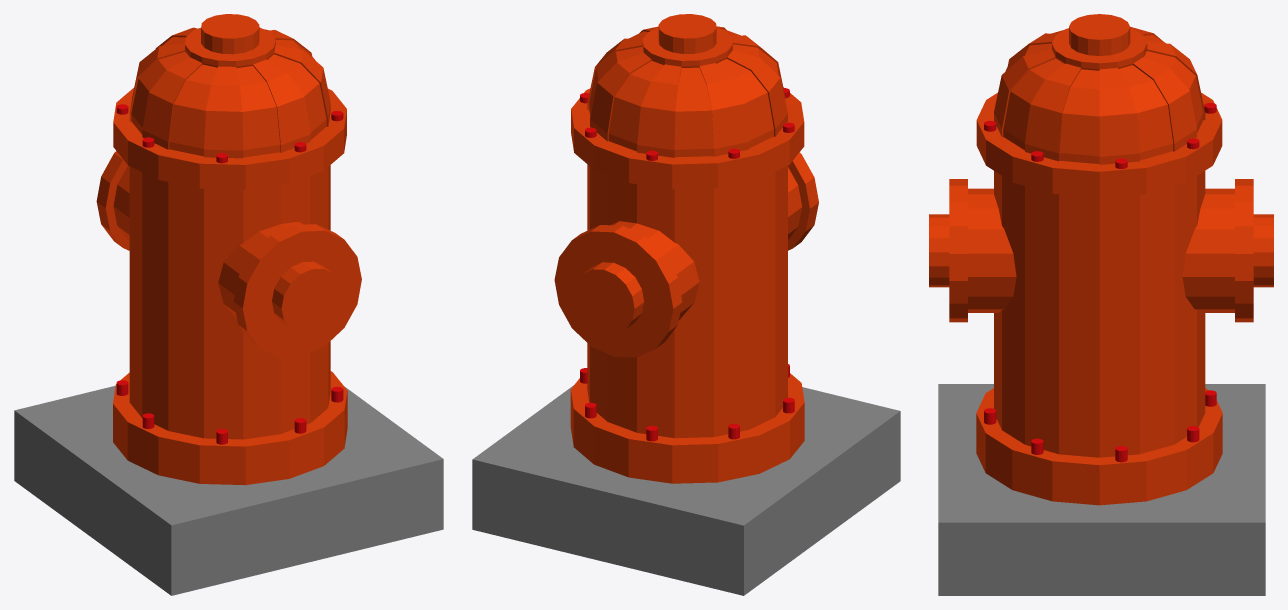
The model's file is Hidrante.glb.
3 renders of one model, left to right at view 1: azimuth 30°, elevation 25°; view 2: azimuth 150°, elevation 25°; view 3: azimuth 270°, elevation 25°, orthographic. The views are drawn at different scales.
Parts seen in each view (by area): view 1: Cylinder.004, Cube.005, Cylinder.014; view 2: Cylinder.004, Cube.005, Cylinder.014; view 3: Cylinder.004, Cube.005, Cylinder.014.
Part boxes in pixels (x1,y1,x2,y2): Cylinder.004: (96, 14, 361, 485); Cube.005: (14, 385, 443, 595); Cylinder.014: (116, 104, 343, 444); Cylinder.004: (554, 14, 818, 483); Cube.005: (472, 385, 900, 595); Cylinder.014: (580, 88, 794, 441); Cylinder.004: (929, 14, 1273, 505); Cube.005: (938, 384, 1265, 595); Cylinder.014: (984, 103, 1216, 462).
Bounding box in the file's own units: 0.5538 × 0.9329 × 0.5834.
